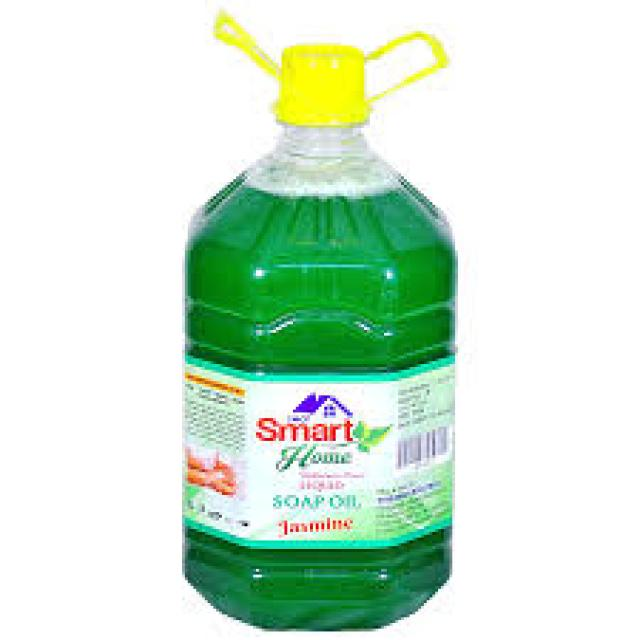liquid soap: (179, 12, 465, 636)
